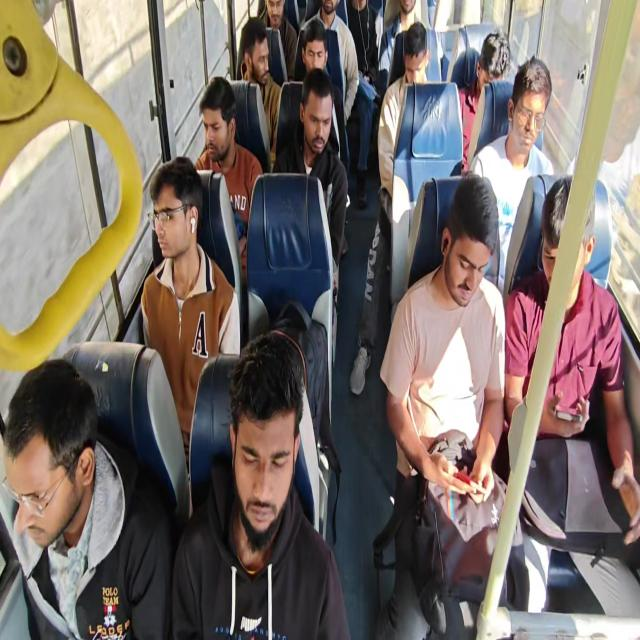person: (0, 384, 87, 527), (235, 374, 303, 522), (139, 166, 213, 277), (536, 177, 586, 300), (443, 208, 485, 291), (511, 77, 542, 165), (297, 86, 339, 145), (236, 26, 270, 88), (196, 99, 230, 156), (477, 40, 506, 92), (304, 28, 332, 79), (402, 36, 426, 90), (263, 0, 286, 24), (314, 0, 339, 19), (396, 0, 417, 19)
